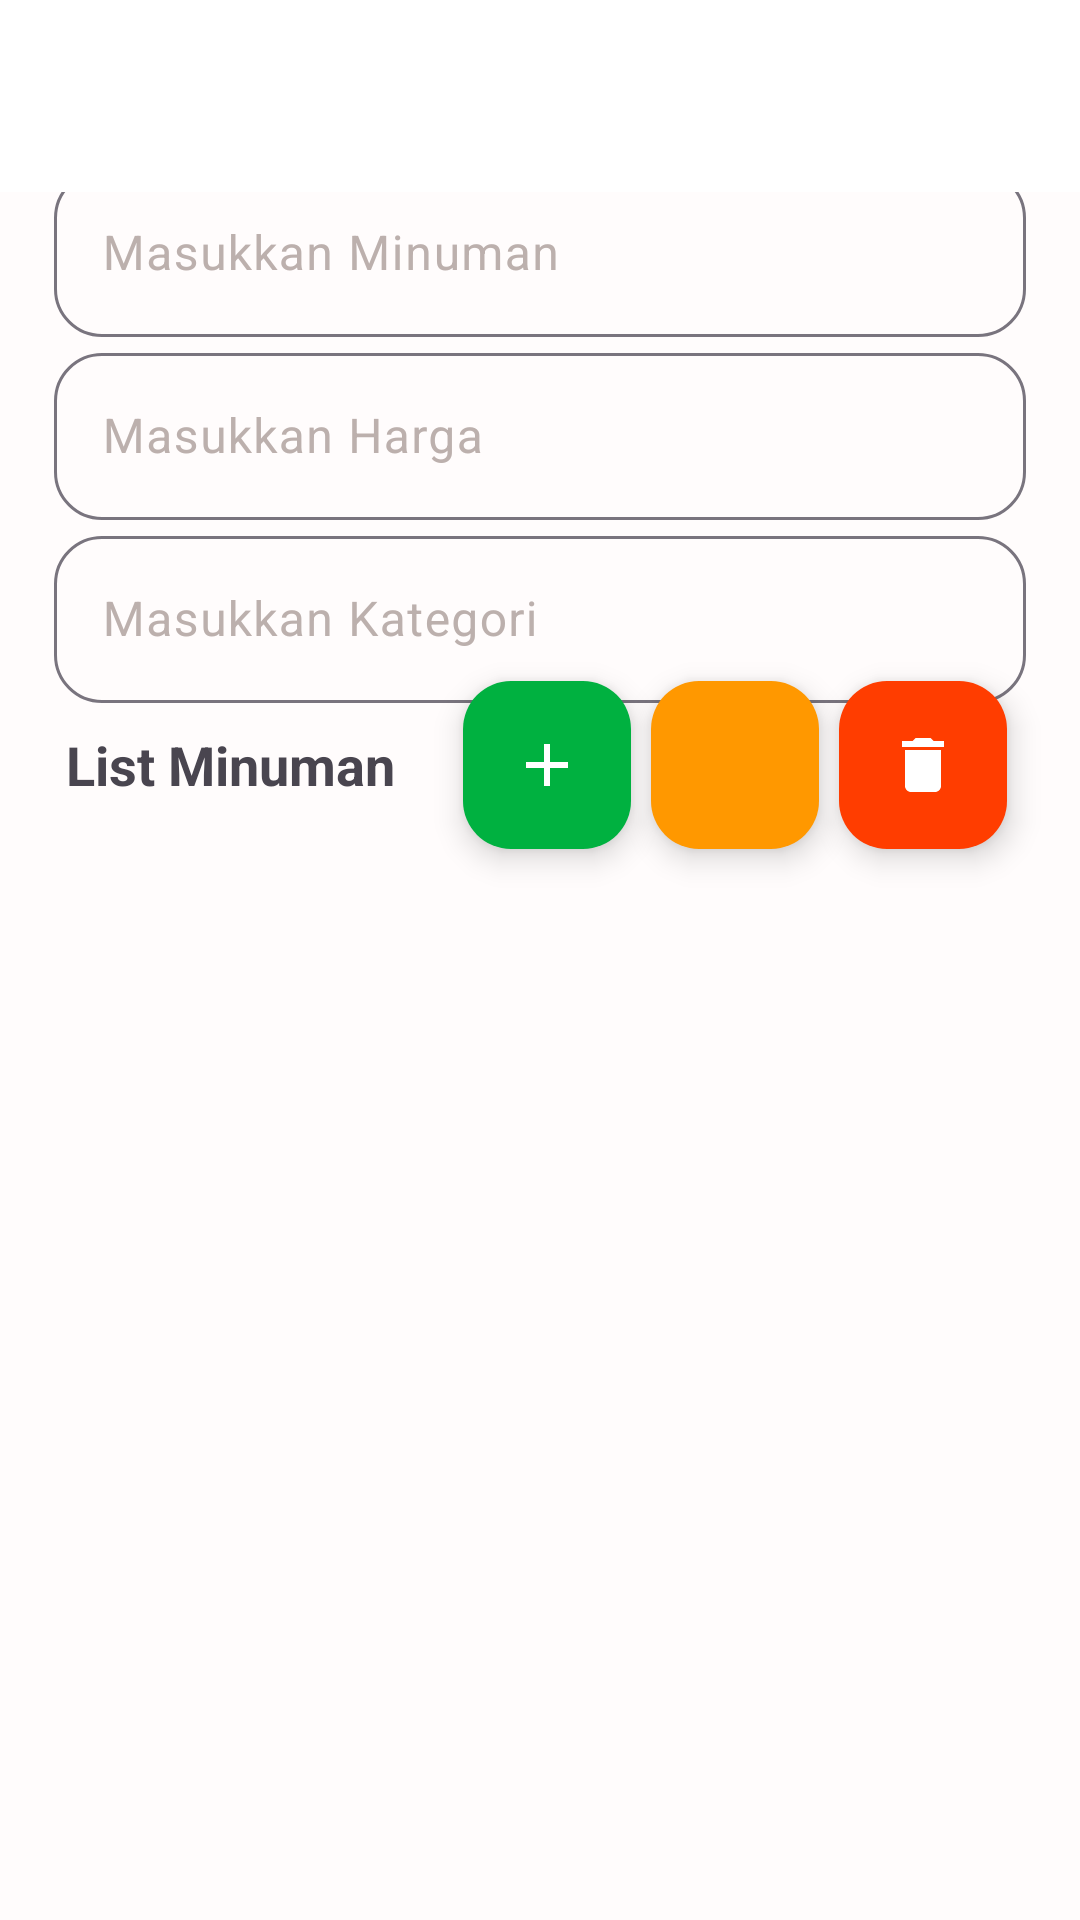

Where to tap for icons on this 1080 × 1920 app screen, as point (x, y):
buttonadd: point (547, 765)
buttondelete: point (923, 765)
